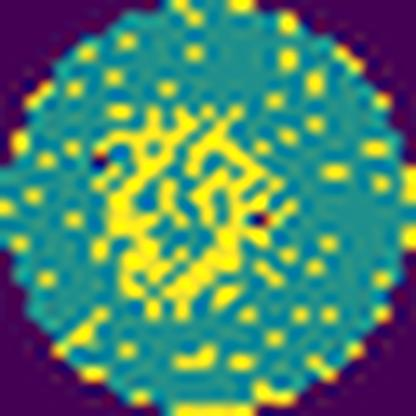Donut: (59, 86, 309, 334)
